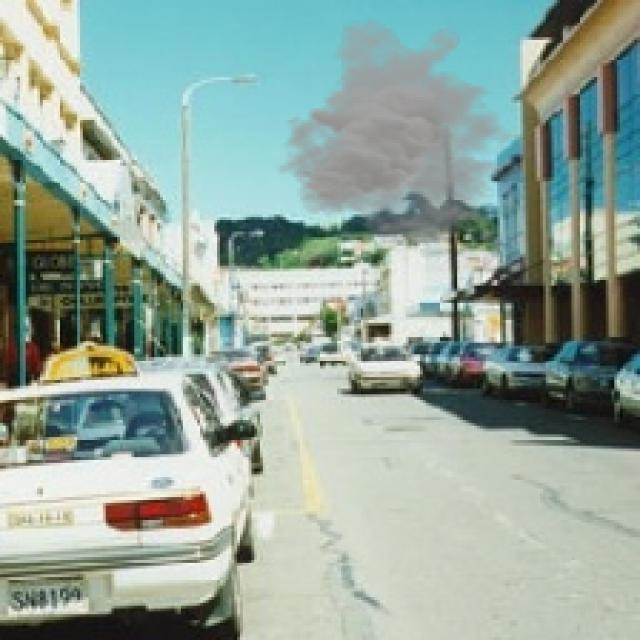Smoke: (274, 17, 526, 249)
